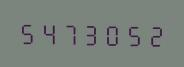five: (17, 18, 37, 46), (122, 20, 142, 47)
four: (38, 19, 58, 46)
seven: (59, 19, 79, 46)
three: (80, 19, 100, 47)
two: (143, 20, 163, 48)
zero: (101, 20, 121, 47)
